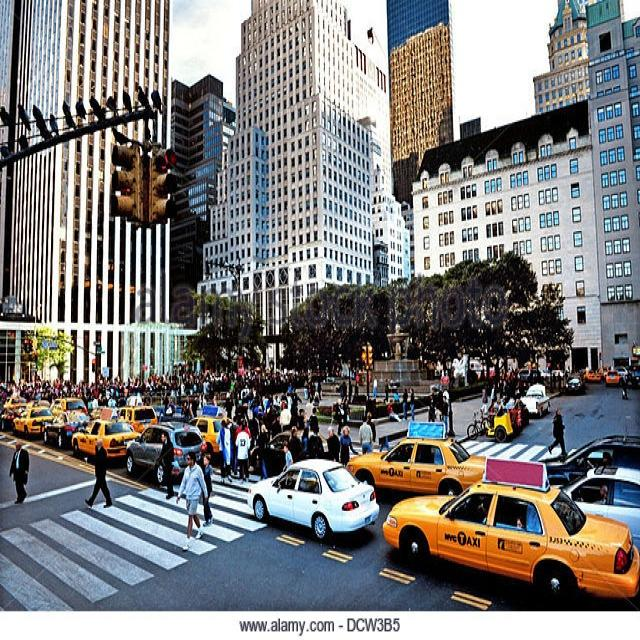body: (0, 375, 304, 403), (480, 359, 547, 413), (174, 449, 208, 553), (546, 360, 639, 396), (419, 348, 479, 388), (303, 359, 367, 396), (149, 362, 303, 376), (83, 438, 113, 509), (8, 439, 30, 505), (155, 429, 175, 501), (214, 418, 231, 483), (201, 452, 215, 528), (547, 406, 567, 458), (235, 423, 251, 484), (276, 469, 297, 514), (338, 424, 359, 466), (256, 422, 270, 481), (227, 413, 240, 475), (286, 423, 304, 465), (323, 425, 341, 463), (357, 414, 373, 456), (306, 424, 325, 459), (470, 494, 488, 524), (365, 411, 377, 454), (432, 386, 444, 426), (281, 439, 295, 472), (250, 410, 261, 450), (595, 449, 615, 471), (339, 393, 350, 432), (217, 402, 228, 440), (386, 399, 402, 425), (426, 392, 437, 429), (308, 405, 321, 436), (589, 484, 608, 505), (234, 416, 252, 438), (333, 396, 343, 435), (279, 404, 292, 434), (289, 399, 299, 438), (393, 443, 413, 462), (441, 395, 450, 436), (300, 424, 310, 460), (509, 514, 527, 534), (180, 403, 198, 422), (268, 399, 278, 433), (262, 405, 271, 442), (304, 396, 315, 426), (162, 399, 172, 430), (245, 403, 254, 436), (401, 386, 409, 423), (408, 386, 416, 422), (270, 416, 282, 439), (442, 386, 451, 416), (297, 408, 306, 430), (371, 373, 378, 399), (233, 408, 247, 420), (383, 376, 389, 403), (392, 389, 400, 403), (257, 406, 264, 419)
